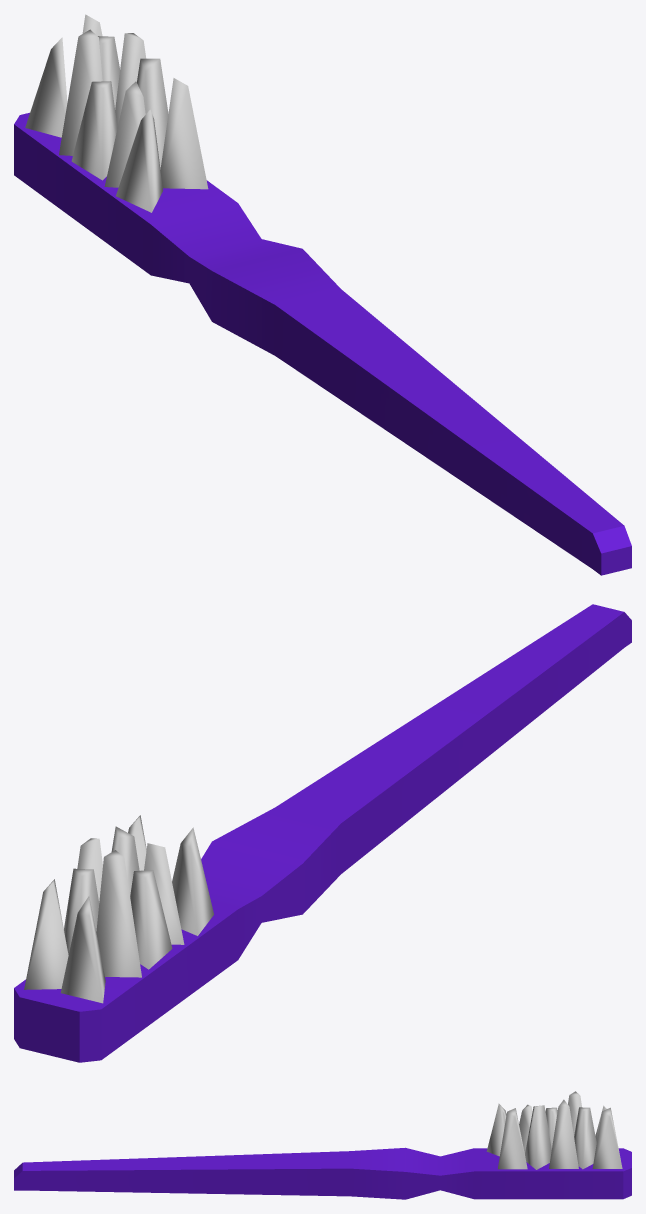
File: Toothbrush_C.FBX
The picture shows the model from 3 angles, top to bottom: view 1: azimuth 30°, elevation 25°; view 2: azimuth 150°, elevation 25°; view 3: azimuth 270°, elevation 25°; orthographic projection. The views are drawn at different scales.
Parts seen in each view (by area): view 1: Tooth_Brush_01; view 2: Tooth_Brush_01; view 3: Tooth_Brush_01.
Part boxes in pixels (box(x1,y1,x2,y2)): Tooth_Brush_01: box(14, 14, 631, 575); Tooth_Brush_01: box(14, 604, 631, 1062); Tooth_Brush_01: box(14, 1091, 631, 1199).
Size of the model in its own units: 6.59 by 11.67 by 71.32.
